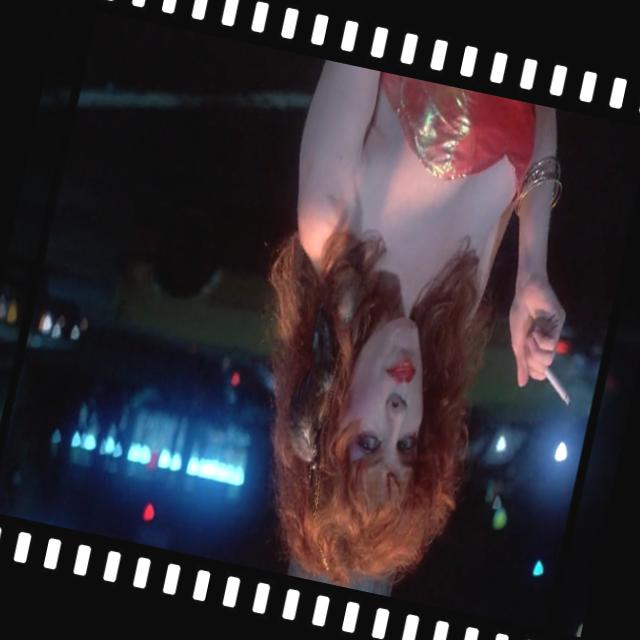smoke: (540, 368, 578, 409)
